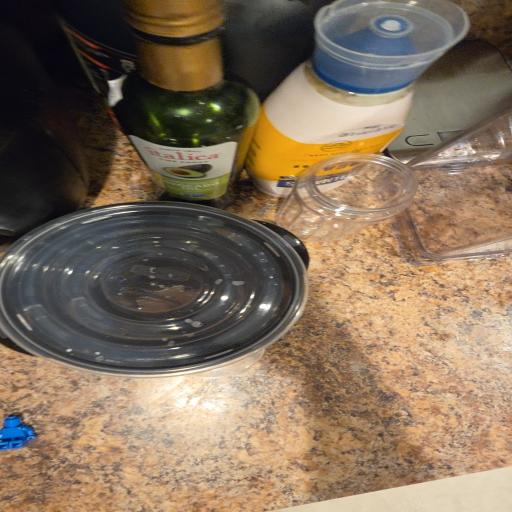Blue: (0, 415, 36, 450)
